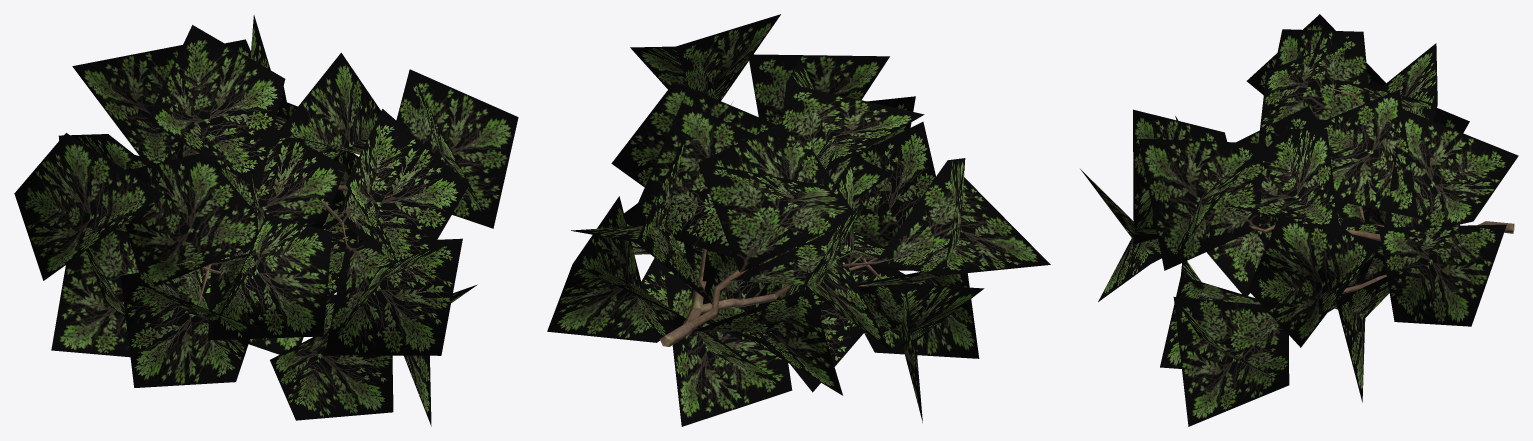
The model's file is m_leaves_2.fbx.
3 views of the same model, side by side, from view 1: azimuth 30°, elevation 25°; view 2: azimuth 150°, elevation 25°; view 3: azimuth 270°, elevation 25° (orthographic). The views are drawn at different scales.
Visible parts, largest first — view 1: mesh_leaves_2; view 2: mesh_leaves_2; view 3: mesh_leaves_2.
Part boxes in pixels (bbox=[...]): mesh_leaves_2: bbox=[14, 15, 518, 426]; mesh_leaves_2: bbox=[547, 14, 1050, 426]; mesh_leaves_2: bbox=[1080, 14, 1518, 426].
Bounding box in the file's own units: 16.95 × 13.41 × 16.09.
